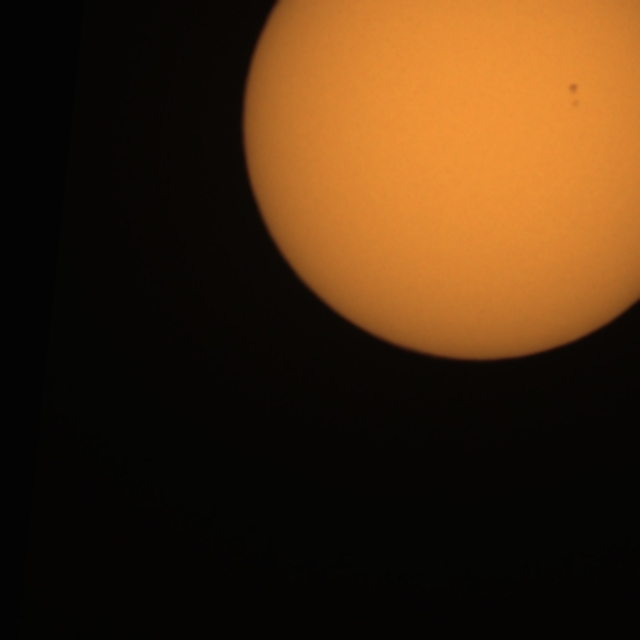sunspot: (566, 80, 582, 111)
